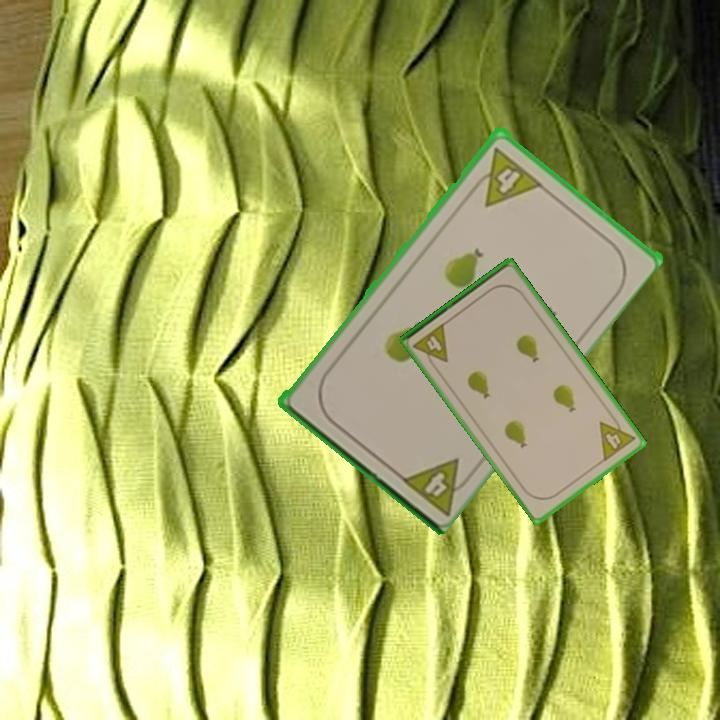4p: (396, 453, 478, 518), (466, 143, 544, 209), (409, 319, 452, 372), (596, 410, 638, 464)
